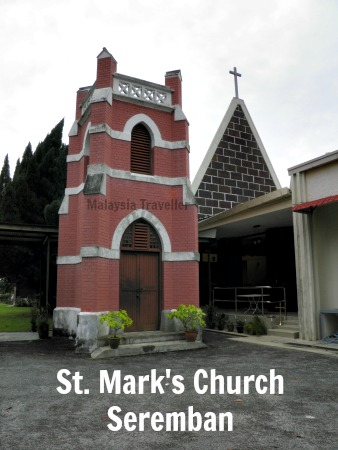Church: (37, 50, 269, 333)
